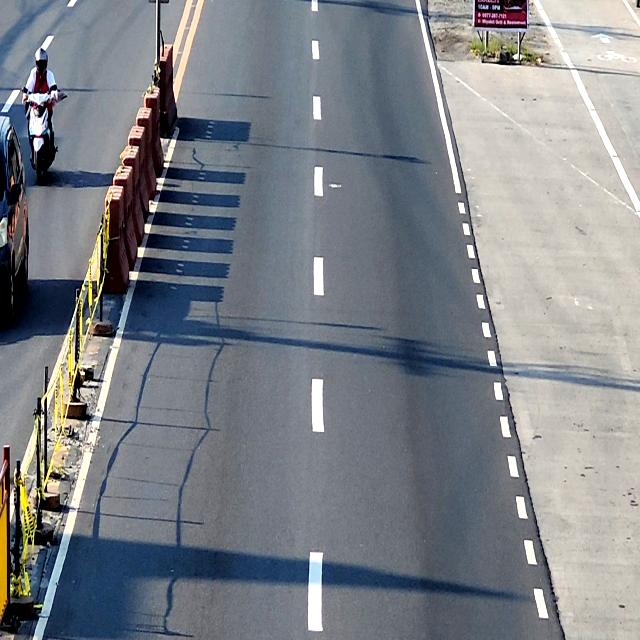Car: (0, 115, 30, 323)
Motorcycle: (22, 86, 56, 183)
